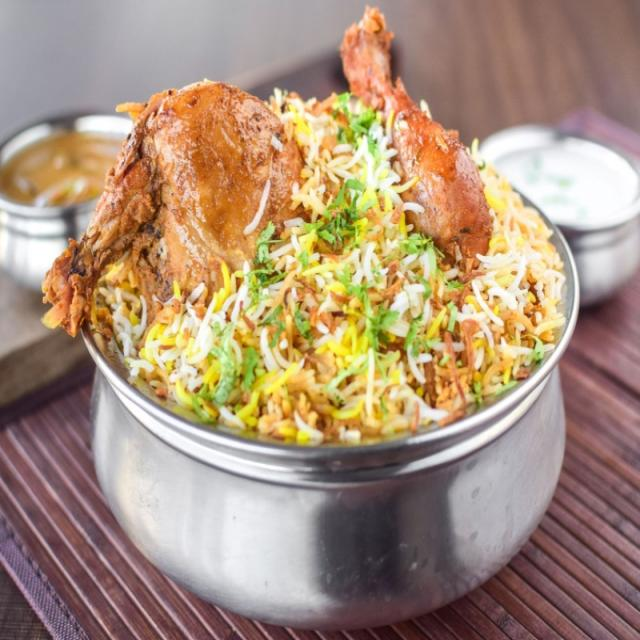Biryani: (79, 17, 570, 454)
